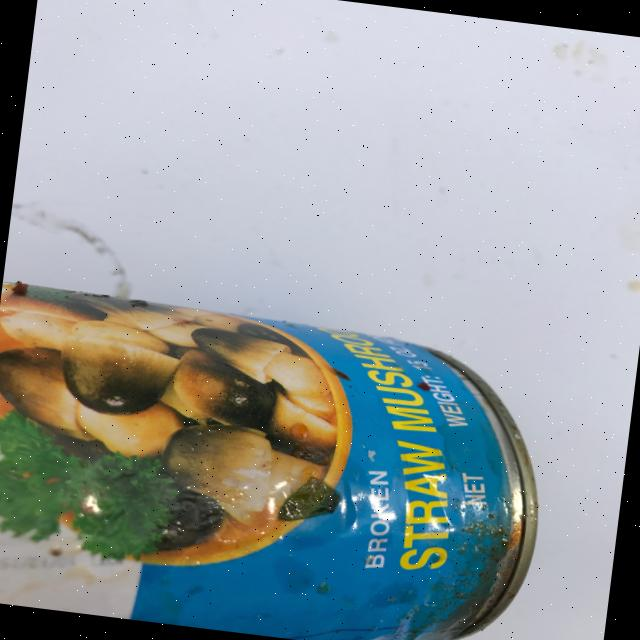metal: (0, 279, 559, 640)
